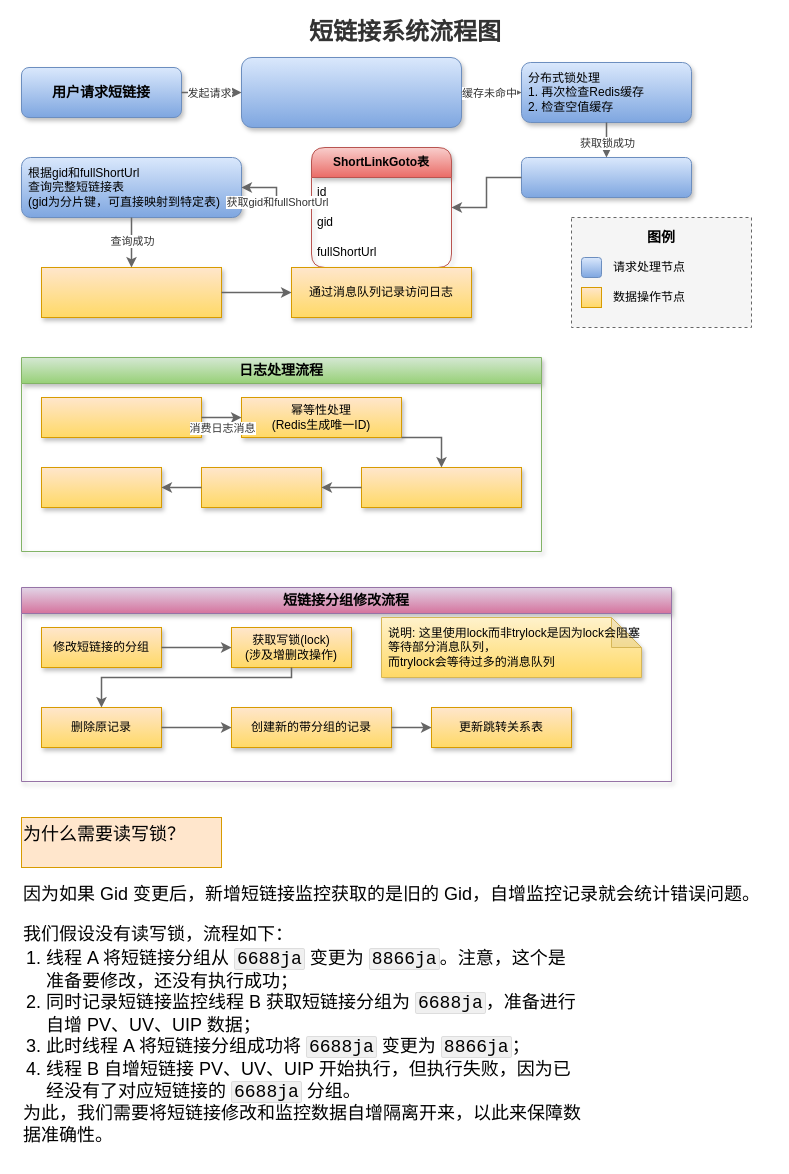
Image size: 789x1174. Some labels were removed from this diagram. Each missing label, with the centre of its shape:
保存各类统计数据: point (102, 488)
执行统计数据保存: point (442, 488)
查询ShortLinkGoto表: point (607, 178)
查询到短链接后 写入缓存(长链接映射到短链接): point (132, 293)
消息队列消费(记录日志): point (122, 418)
缓存查询 1. 查询Redis缓存 2. 检查布隆过滤器(避免缓存穿透) 3. 查询空值缓存(避免缓存穿透): point (352, 93)
获取读锁 (只进行新增操作): point (262, 488)
